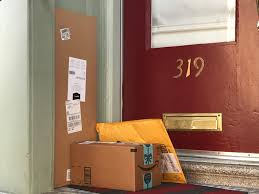package: (70, 140, 166, 192)
